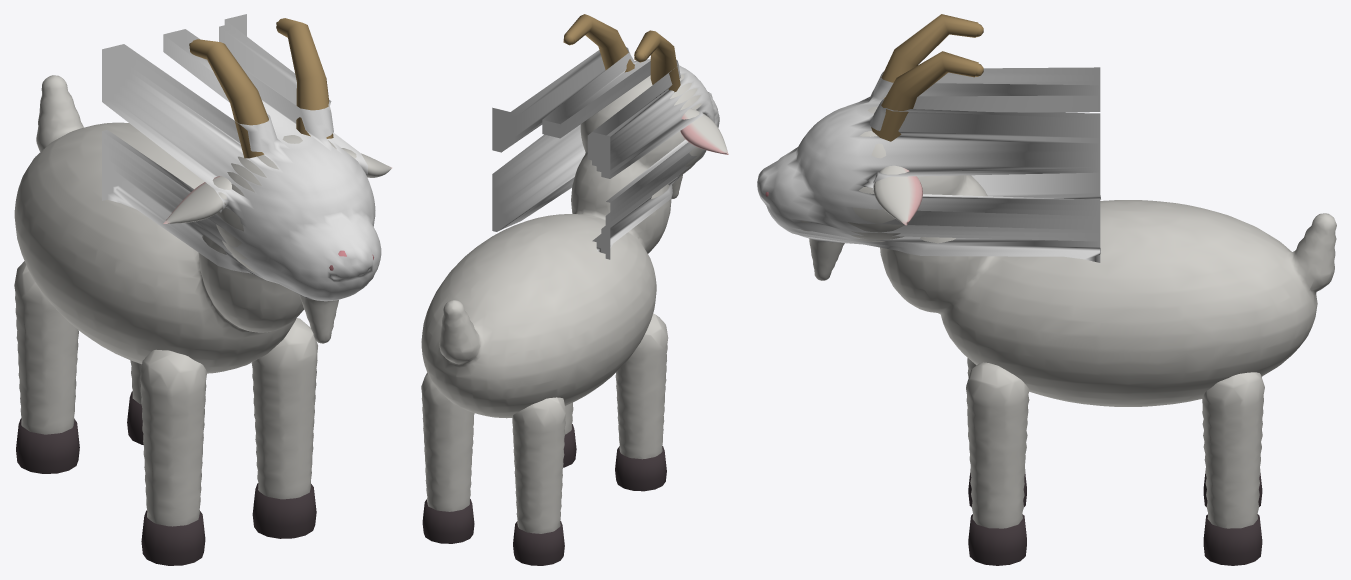
File: folk2_goat.glb
3 renders of one model, left to right at view 1: azimuth 30°, elevation 25°; view 2: azimuth 150°, elevation 25°; view 3: azimuth 270°, elevation 25°, orthographic. The views are drawn at different scales.
Parts seen in each view (by area): view 1: goat_body, goat_face, goat_leg_fl, goat_leg_fr, goat_leg_bl, goat_leg_br; view 2: goat_body, goat_face, goat_leg_bl, goat_leg_fl, goat_leg_br, goat_leg_fr; view 3: goat_body, goat_face, goat_leg_fr, goat_leg_br.
Part boxes in pixels (left/top/right/bottom): goat_body: left=14, top=18, right=391, bottom=373; goat_face: left=102, top=14, right=381, bottom=301; goat_leg_fl: left=140, top=349, right=206, bottom=565; goat_leg_fr: left=251, top=318, right=317, bottom=538; goat_leg_bl: left=14, top=261, right=79, bottom=473; goat_leg_br: left=127, top=360, right=143, bottom=444; goat_body: left=421, top=14, right=728, bottom=418; goat_face: left=492, top=47, right=719, bottom=259; goat_leg_bl: left=512, top=397, right=566, bottom=565; goat_leg_fl: left=615, top=313, right=668, bottom=491; goat_leg_br: left=421, top=373, right=474, bottom=543; goat_leg_fr: left=563, top=402, right=576, bottom=467; goat_body: left=765, top=14, right=1336, bottom=406; goat_face: left=757, top=67, right=1101, bottom=262; goat_leg_fr: left=966, top=362, right=1029, bottom=565; goat_leg_br: left=1202, top=372, right=1264, bottom=565.
Size of the model in its own units: 0.413 by 0.9077 by 0.9645.
